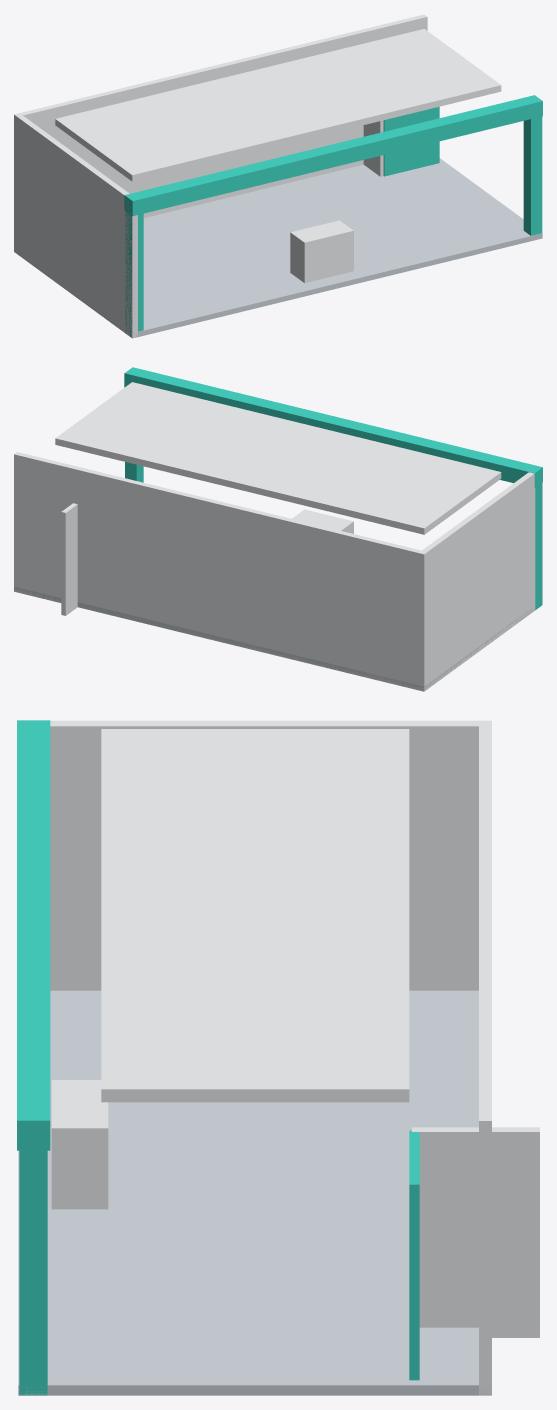
3 renders of one model, top to bottom at view 1: azimuth 30°, elevation 25°; view 2: azimuth 150°, elevation 25°; view 3: azimuth 270°, elevation 25°, orthographic. The views are drawn at different scales.
Parts seen in each view (by area): view 1: Exhibition Booth Concept; view 2: Exhibition Booth Concept; view 3: Exhibition Booth Concept.
Boxes of the visible parts, x1,y1,x2,y2 form: Exhibition Booth Concept: [14, 14, 542, 338]; Exhibition Booth Concept: [14, 367, 542, 691]; Exhibition Booth Concept: [17, 720, 539, 1395].
Size of the model in its own units: 10 by 3.34 by 5.52.
